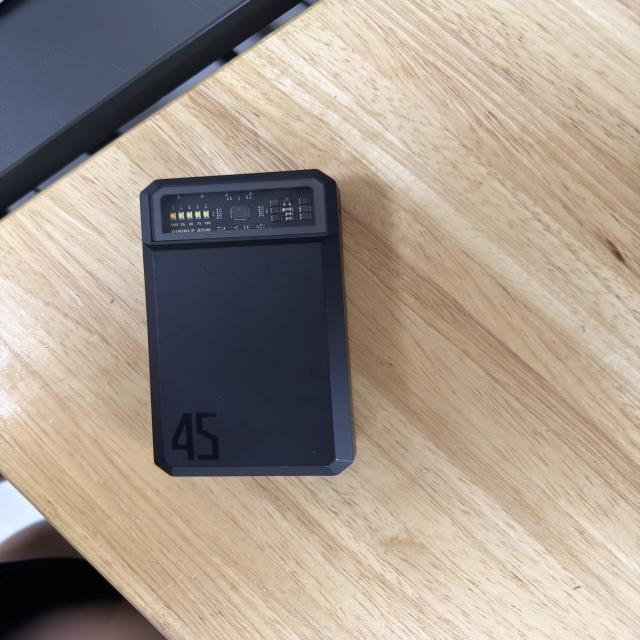power bank: (139, 167, 360, 477)
